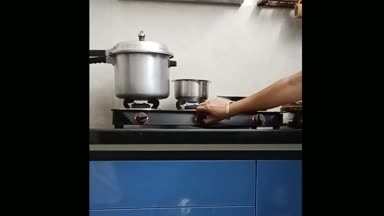flame_gas_off: (122, 98, 161, 126)
flame_gas_on: (176, 99, 205, 116)
